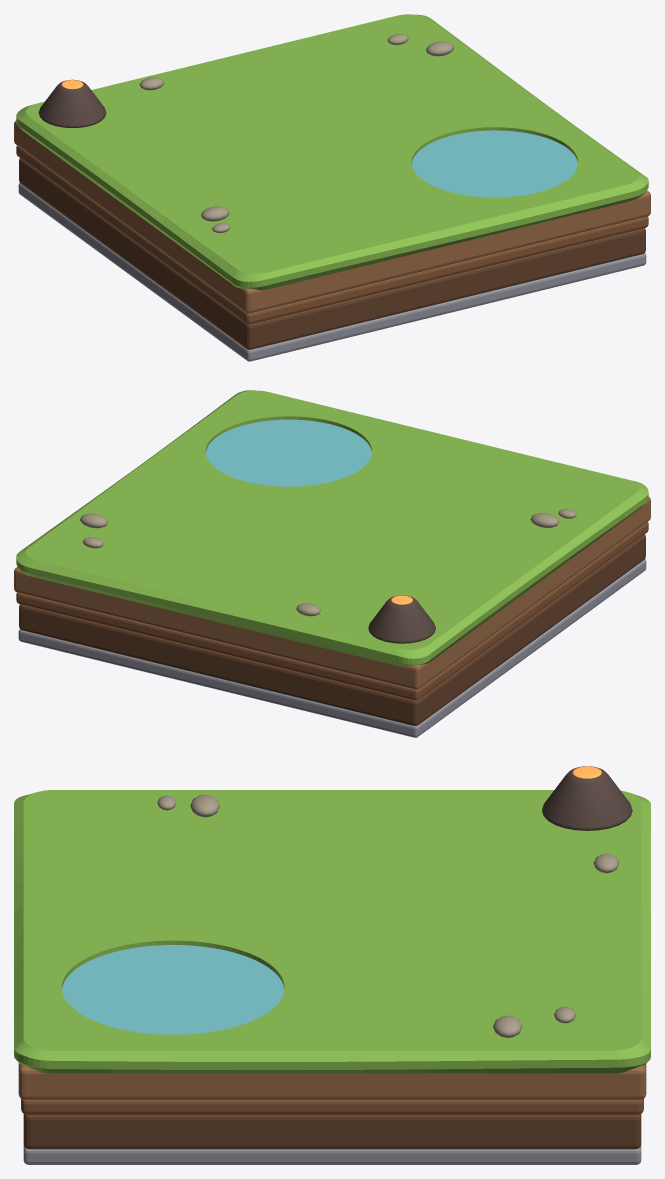
The model's file is island_jurassic.glb.
The picture shows the model from 3 angles, top to bottom: view 1: azimuth 30°, elevation 25°; view 2: azimuth 150°, elevation 25°; view 3: azimuth 270°, elevation 25°; orthographic projection. The views are drawn at different scales.
Parts seen in each view (by area): view 1: Top, Sides, Water, Deco; view 2: Top, Sides, Water, Deco; view 3: Top, Sides, Water, Deco.
Part boxes in pixels (bbox=[...]): Top: bbox=[16, 14, 648, 290]; Sides: bbox=[14, 120, 650, 361]; Water: bbox=[412, 130, 577, 197]; Deco: bbox=[38, 34, 453, 232]; Top: bbox=[16, 390, 648, 666]; Sides: bbox=[14, 497, 650, 737]; Water: bbox=[206, 419, 371, 486]; Deco: bbox=[80, 509, 576, 643]; Top: bbox=[14, 790, 650, 1073]; Sides: bbox=[18, 1063, 646, 1164]; Water: bbox=[62, 945, 284, 1034]; Deco: bbox=[157, 766, 632, 1037].
Size of the model in its own units: 20 by 5.43 by 20.
